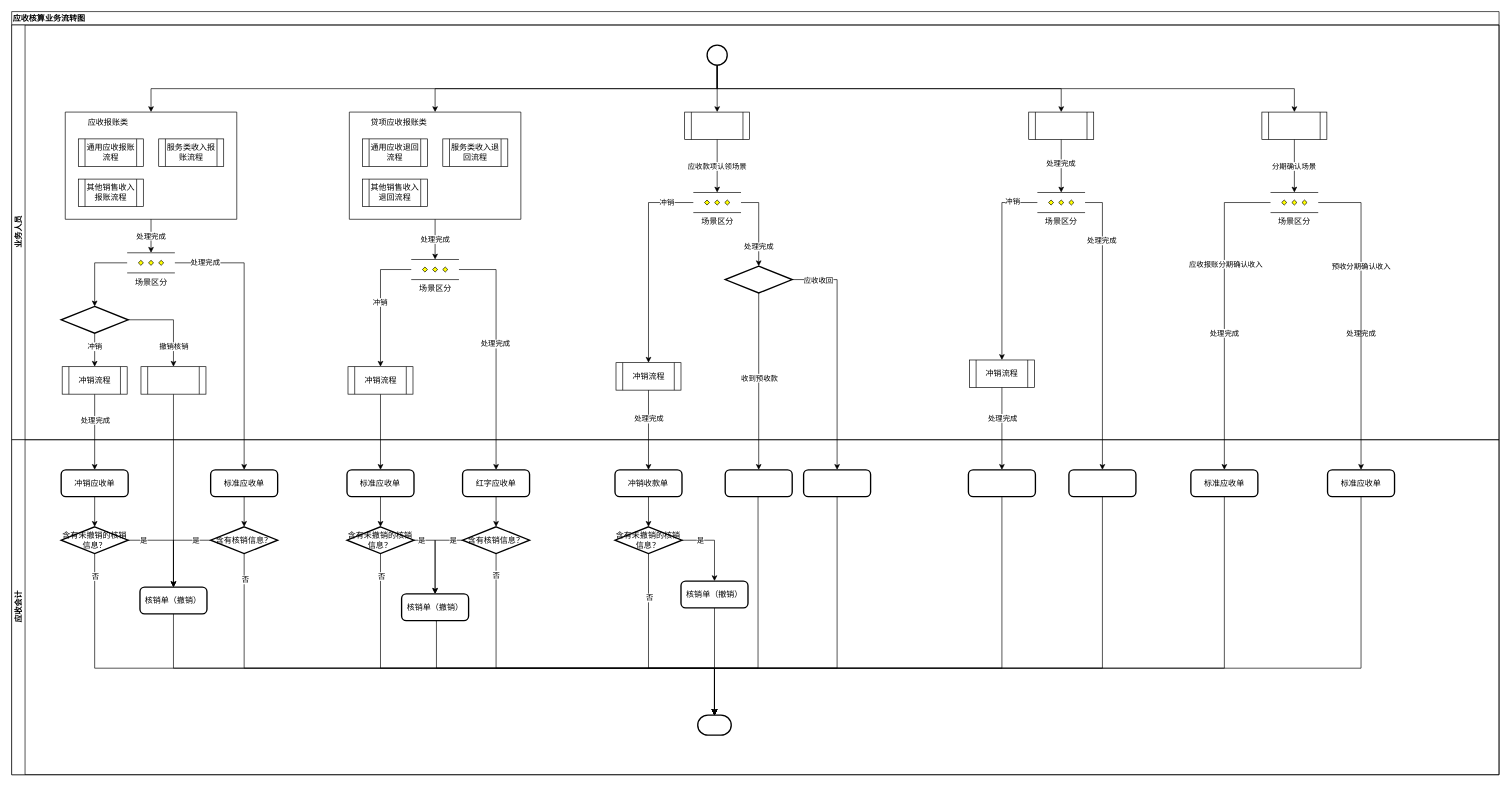
Some shapes in this 1511 by 787 pixel diagram are drawn without their labels. The centre of each missing label's shape, as x and y in pixels:
"分期确认收入流程" goes at (x=1294, y=125).
"应收调整单流程" goes at (x=1061, y=125).
"开始" goes at (x=717, y=55).
"撤销核销流程" goes at (x=173, y=380).
"收款认领流程" goes at (x=717, y=125).
"标准收款单" goes at (x=837, y=483).
"结束" goes at (x=714, y=725).
"认领场景？" goes at (x=758, y=279).
"调整单" goes at (x=1102, y=483).
"调整单 取消单" goes at (x=1001, y=483).
"逆向处理？" goes at (x=94, y=319).
"预收款单" goes at (x=758, y=483).
